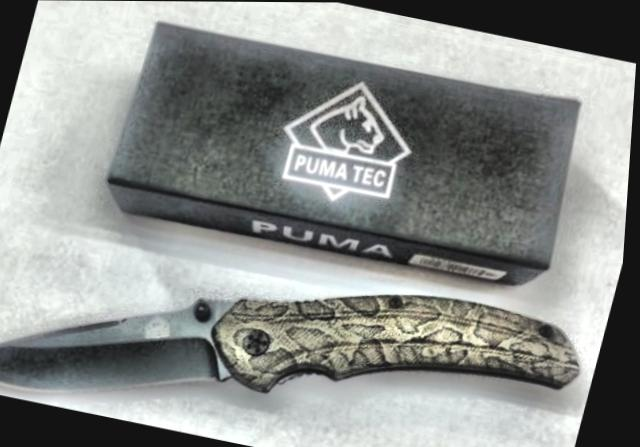knife: (0, 247, 259, 438)
